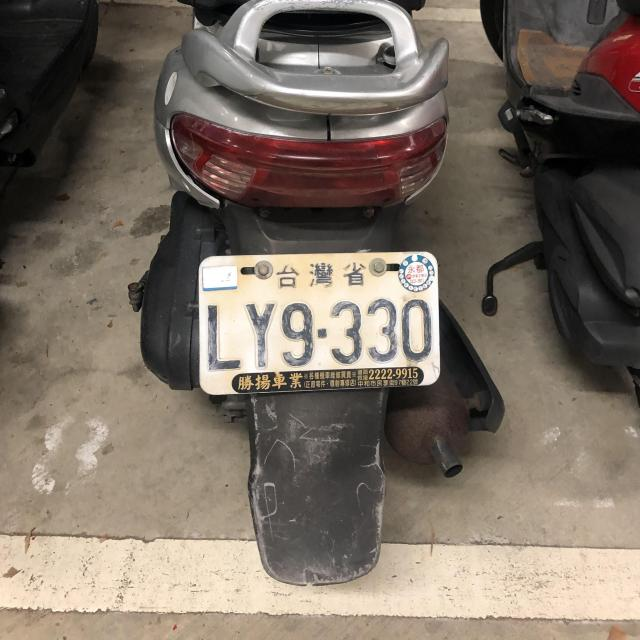W: (196, 251, 440, 379)
